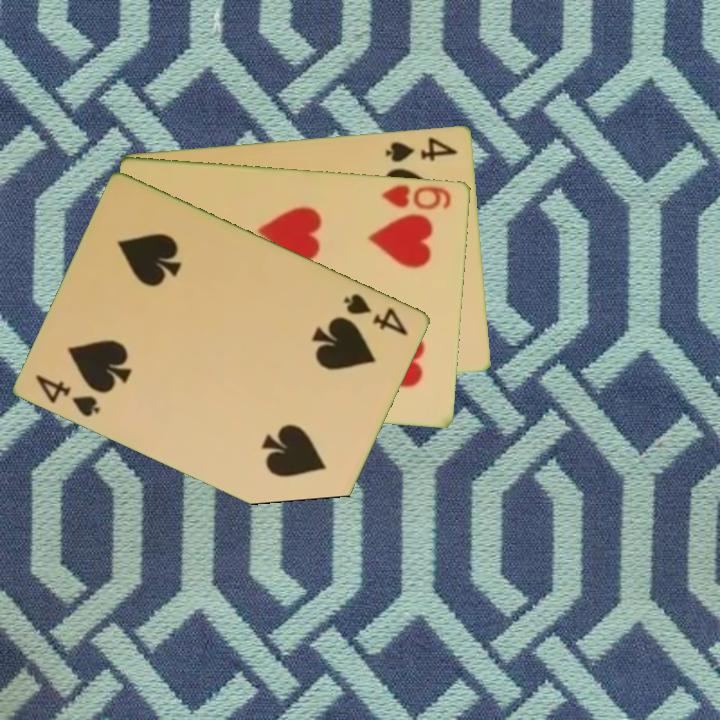4s: (340, 289, 412, 338), (32, 371, 104, 420), (382, 133, 460, 165)
6h: (379, 180, 454, 213)
